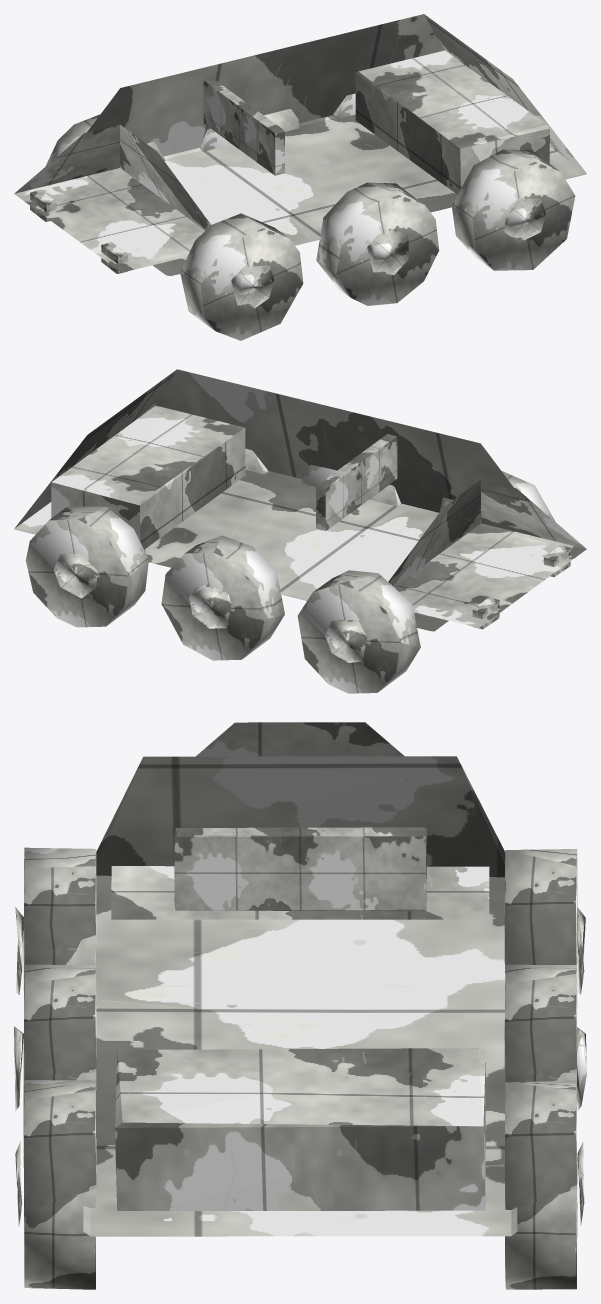
File: scout_car_body_lod.glb
3 views of the same model, one above another, from view 1: azimuth 30°, elevation 25°; view 2: azimuth 150°, elevation 25°; view 3: azimuth 270°, elevation 25° (orthographic). The views are drawn at different scales.
Parts seen in each view (by area): view 1: scout_car_body_lod; view 2: scout_car_body_lod; view 3: scout_car_body_lod.
Part boxes in pixels (box(x1,y1,x2,y2)): scout_car_body_lod: box(14, 14, 586, 340); scout_car_body_lod: box(14, 369, 586, 693); scout_car_body_lod: box(14, 722, 586, 1289).
Size of the model in its own units: 2.27 by 0.7671 by 1.4.
Materials: 1 (1 with a texture image).
